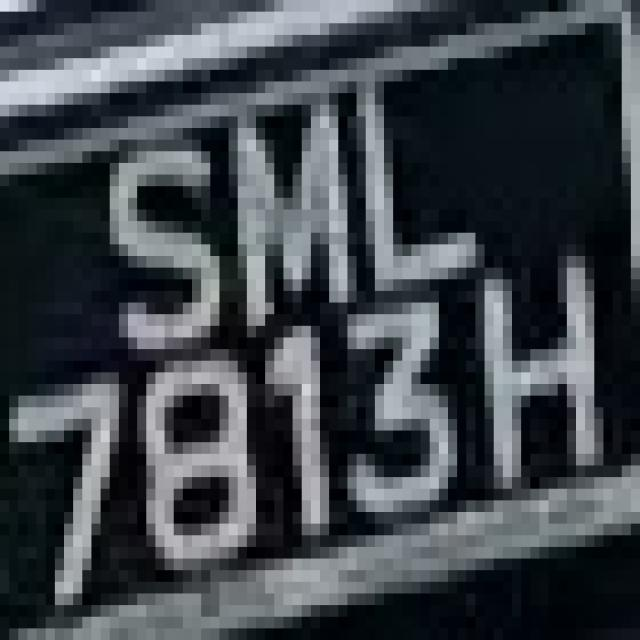1: (256, 326, 357, 558)
3: (338, 244, 476, 536)
7: (18, 314, 110, 617)
8: (128, 337, 265, 582)
H: (457, 233, 604, 535)
L: (329, 70, 476, 268)
M: (210, 105, 357, 326)
S: (73, 93, 238, 396)
